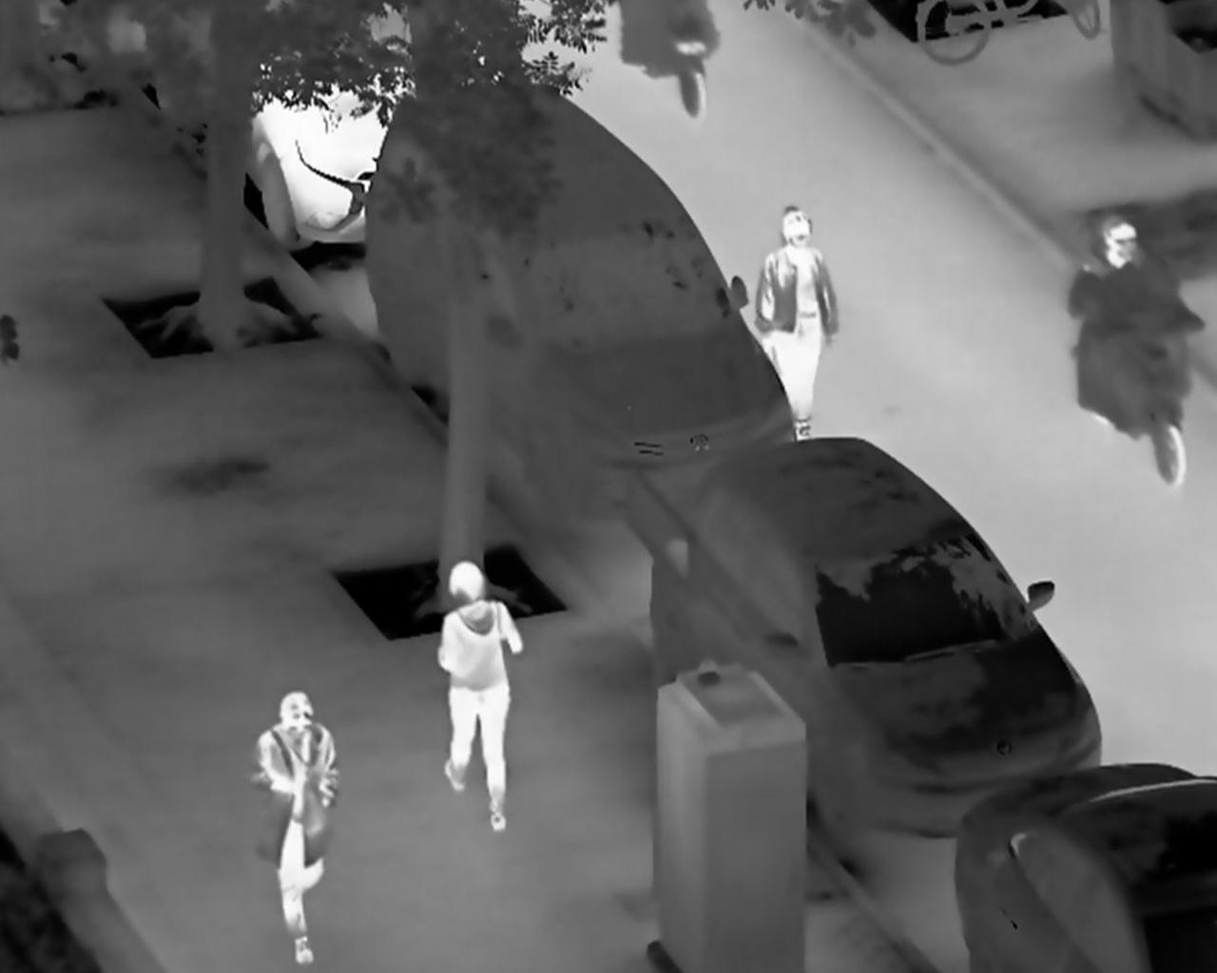person: (249, 688, 341, 968), (433, 561, 525, 832), (756, 206, 843, 443), (1067, 212, 1189, 335)
